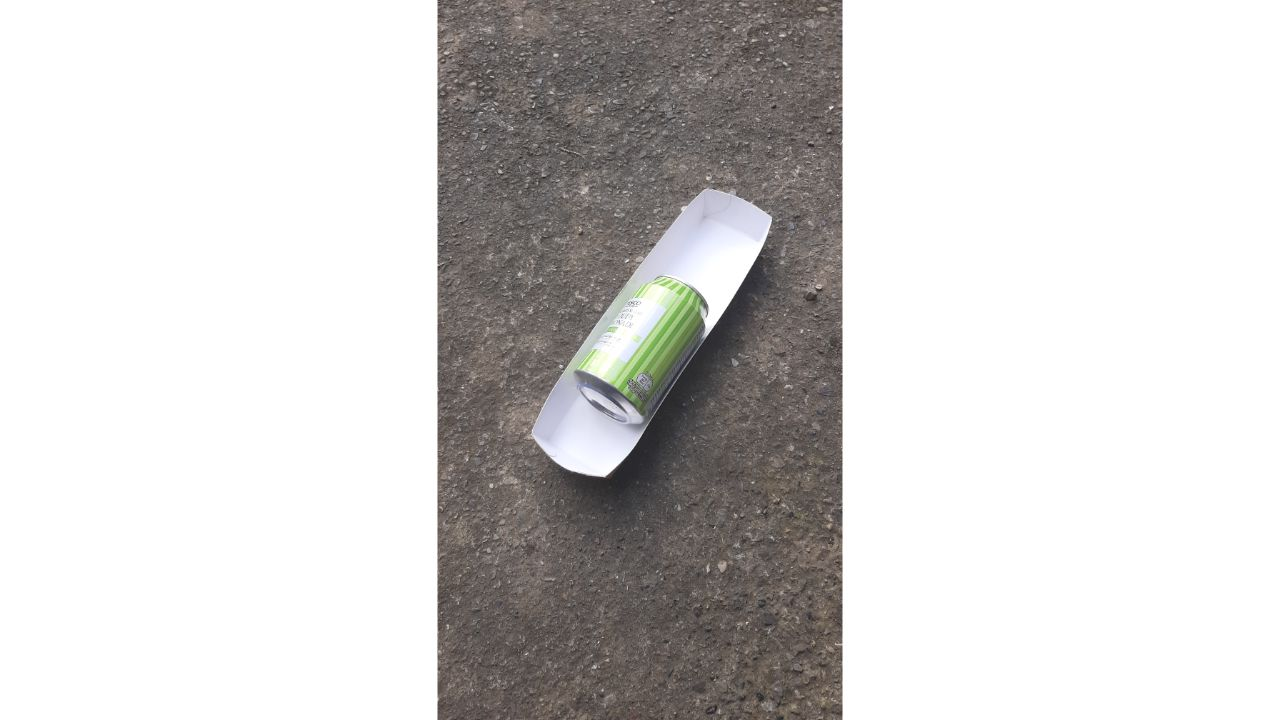Can: (566, 268, 715, 433)
